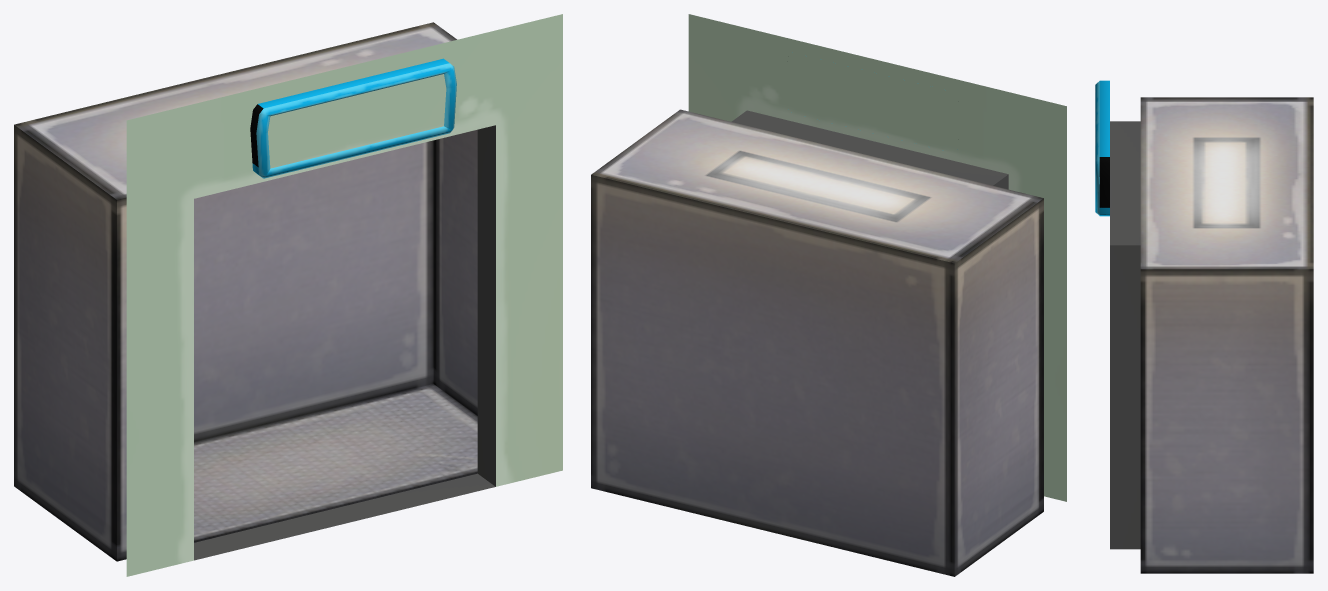
Rendered from ascenseur.fbx.
3 renders of one model, left to right at view 1: azimuth 30°, elevation 25°; view 2: azimuth 150°, elevation 25°; view 3: azimuth 270°, elevation 25°, orthographic. The views are drawn at different scales.
Visible parts, largest first — view 1: ascensseur; view 2: ascensseur; view 3: ascensseur.
Boxes of the visible parts, <box> form: ascensseur: <box>14,14,562,576</box>; ascensseur: <box>591,14,1066,576</box>; ascensseur: <box>1095,80,1313,573</box>.
Size of the model in its own units: 200 by 200 by 103.
